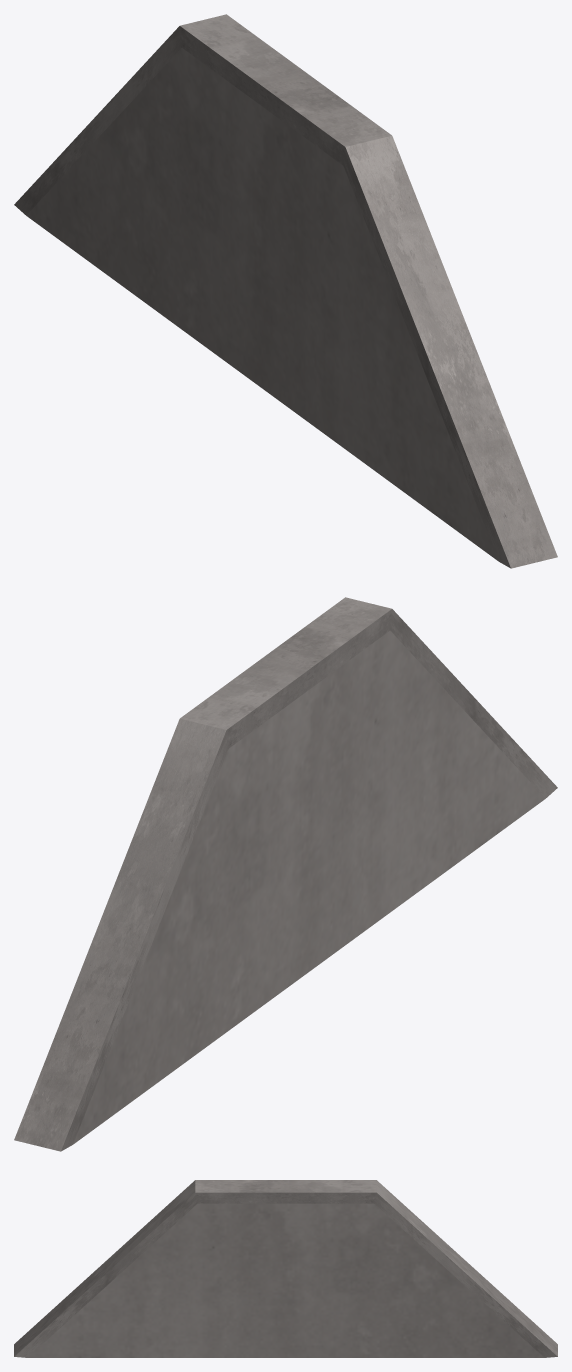
Rendered from Models.fbx.
3 renders of one model, top to bottom at view 1: azimuth 30°, elevation 25°; view 2: azimuth 150°, elevation 25°; view 3: azimuth 270°, elevation 25°, orthographic. The views are drawn at different scales.
Parts seen in each view (by area): view 1: Cube.002; view 2: Cube.002; view 3: Cube.002.
Part boxes in pixels (left/top/right/bottom): Cube.002: left=14, top=14, right=557, bottom=568; Cube.002: left=14, top=597, right=557, bottom=1151; Cube.002: left=14, top=1180, right=557, bottom=1357.
Bounding box in the file's own units: 32.68 × 201 × 600.
